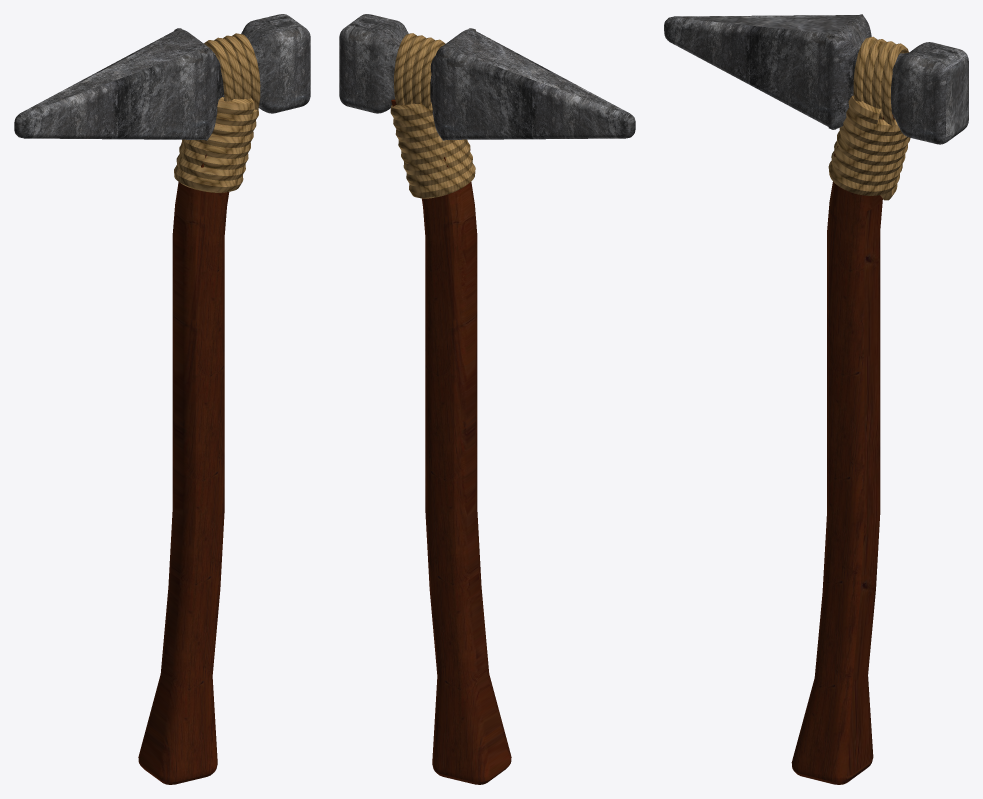
The model's file is Pickaxe.fbx.
3 views of the same model, side by side, from view 1: azimuth 30°, elevation 25°; view 2: azimuth 150°, elevation 25°; view 3: azimuth 330°, elevation 25° (orthographic). The views are drawn at different scales.
Visible parts, largest first — view 1: pasted__polySurface3; view 2: pasted__polySurface3; view 3: pasted__polySurface3.
Boxes of the visible parts, x1,y1,x2,y2 form: pasted__polySurface3: (14,14,310,784); pasted__polySurface3: (339,14,635,784); pasted__polySurface3: (664,14,968,784).
Bounding box in the file's own units: 0.3067 × 0.7496 × 0.065.
Materials: 3 (3 with a texture image).
